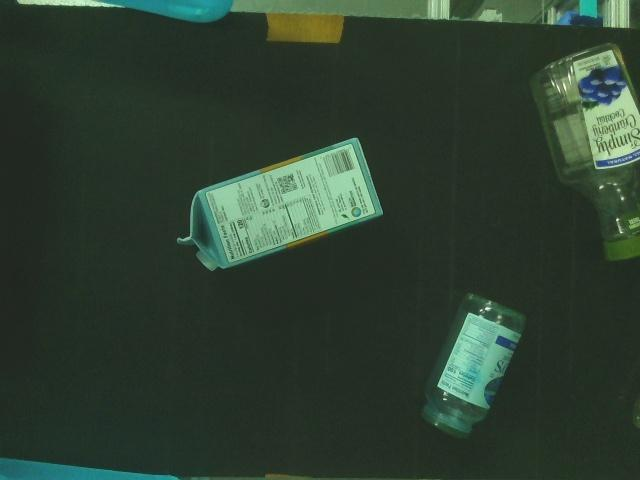cardboard: (176, 136, 385, 273)
plastic: (527, 37, 638, 259), (420, 286, 526, 440)
